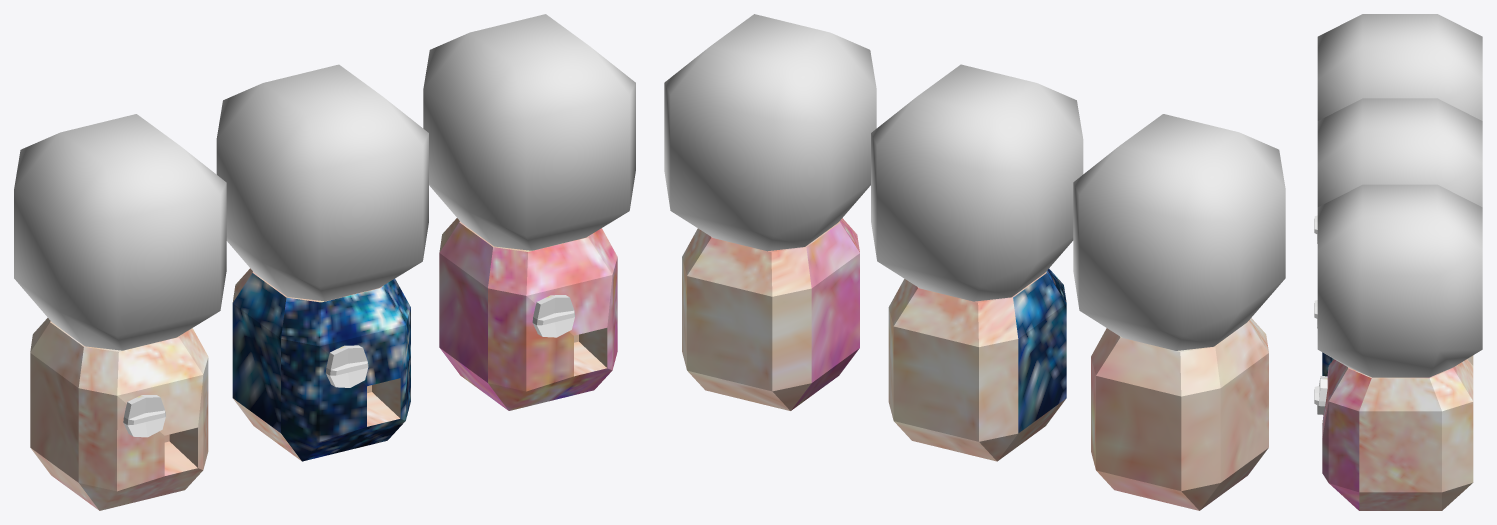
Rendered from shop_3d_040.fbx.
3 views of the same model, side by side, from view 1: azimuth 30°, elevation 25°; view 2: azimuth 150°, elevation 25°; view 3: azimuth 270°, elevation 25° (orthographic). The views are drawn at different scales.
Visible parts, largest first — view 1: Cube.004, Cube.001, Cube.005, Cube.002; view 2: Cube.004, Cube.001, Cube.005, Cube.002; view 3: Cube.005, Cube.004, Cube.002, Cube.001.
Boxes of the visible parts, box(x1,y1,x2,y2) form: Cube.004: box(30, 218, 617, 510); Cube.001: box(14, 114, 226, 350); Cube.005: box(423, 14, 635, 250); Cube.002: box(216, 64, 428, 301); Cube.004: box(682, 218, 1268, 510); Cube.001: box(1073, 114, 1285, 350); Cube.005: box(664, 14, 876, 251); Cube.002: box(871, 64, 1083, 301); Cube.005: box(1317, 184, 1482, 377); Cube.004: box(1314, 215, 1473, 510); Cube.002: box(1317, 98, 1482, 207); Cube.001: box(1317, 14, 1482, 120).
Size of the model in its own units: 522 by 297 by 154.
